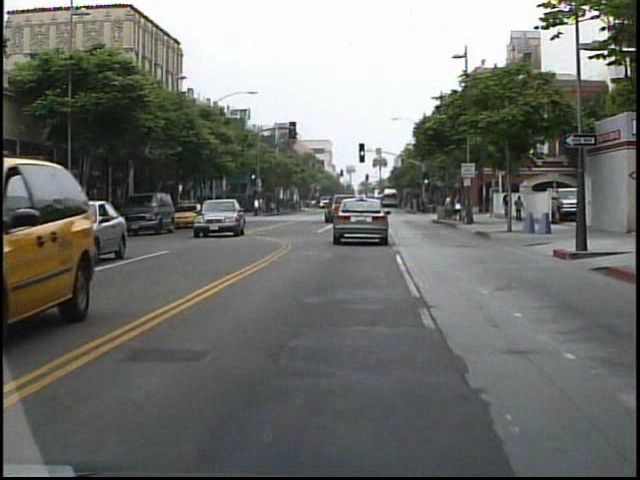person: (439, 189, 458, 222), (501, 187, 516, 227), (512, 191, 525, 225), (254, 194, 263, 219)
